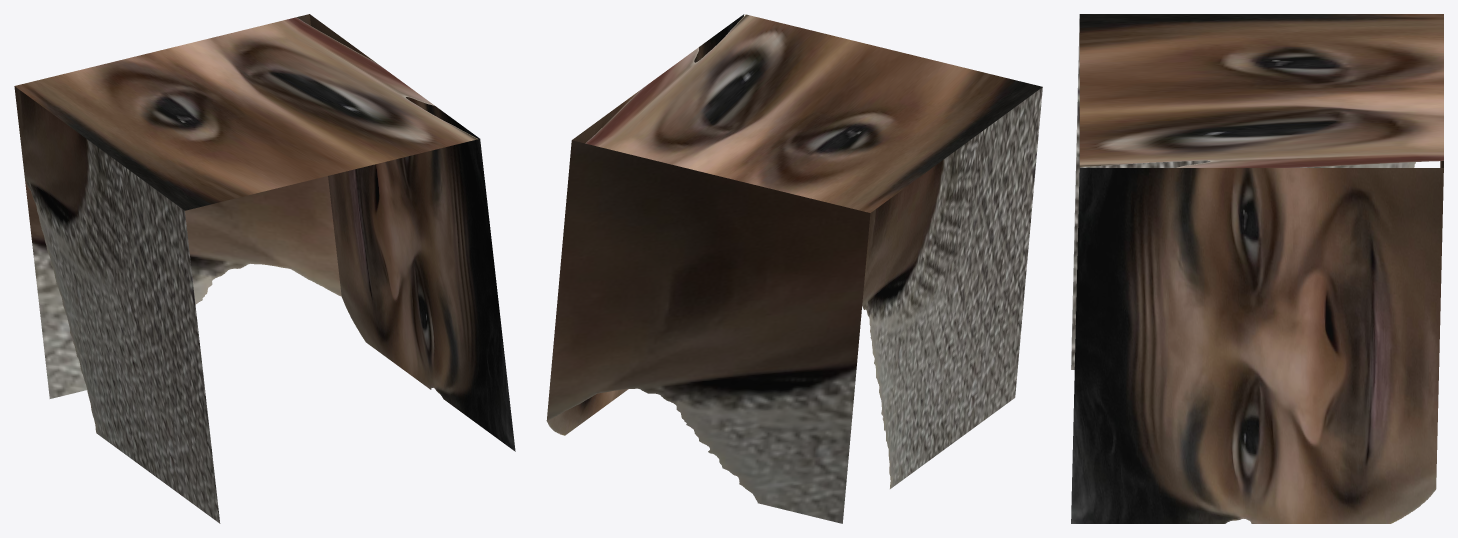
The model's file is gofcube.fbx.
The picture shows the model from 3 angles, left to right: view 1: azimuth 30°, elevation 25°; view 2: azimuth 150°, elevation 25°; view 3: azimuth 270°, elevation 25°; orthographic projection. The views are drawn at different scales.
Parts seen in each view (by area): view 1: Cube; view 2: Cube; view 3: Cube.
Part boxes in pixels (bbox=[...]): Cube: bbox=[14, 14, 515, 523]; Cube: bbox=[546, 14, 1042, 523]; Cube: bbox=[1071, 14, 1443, 523].
Bounding box in the file's own units: 221 × 206 × 205.
Materials: 1 (1 with a texture image).
